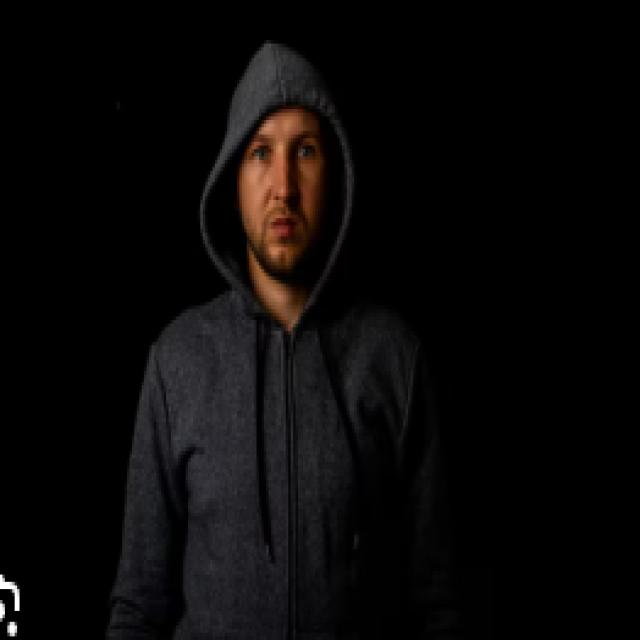4_capucha: (200, 40, 361, 328)
